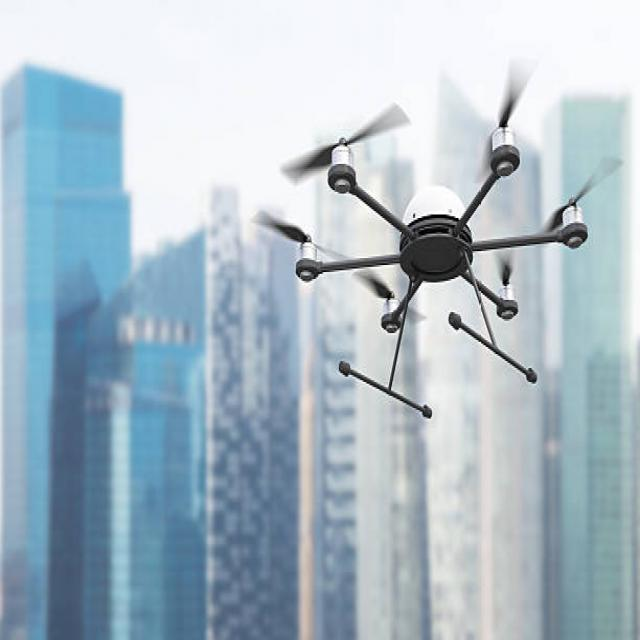drone: (257, 99, 623, 475)
